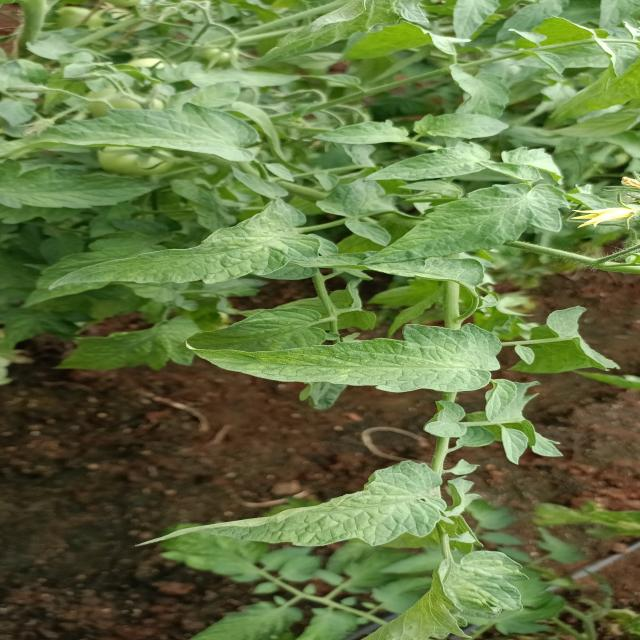Healthy Leaf: (102, 458, 460, 550), (31, 203, 322, 300), (177, 321, 498, 397), (348, 184, 564, 270), (354, 147, 494, 182), (412, 111, 520, 138), (292, 122, 410, 146)
